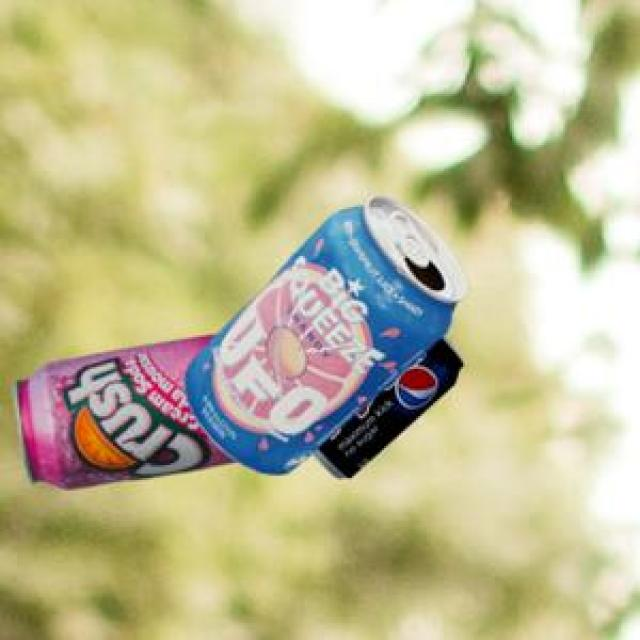logam: (182, 193, 464, 470), (12, 332, 231, 485), (310, 332, 460, 475)
